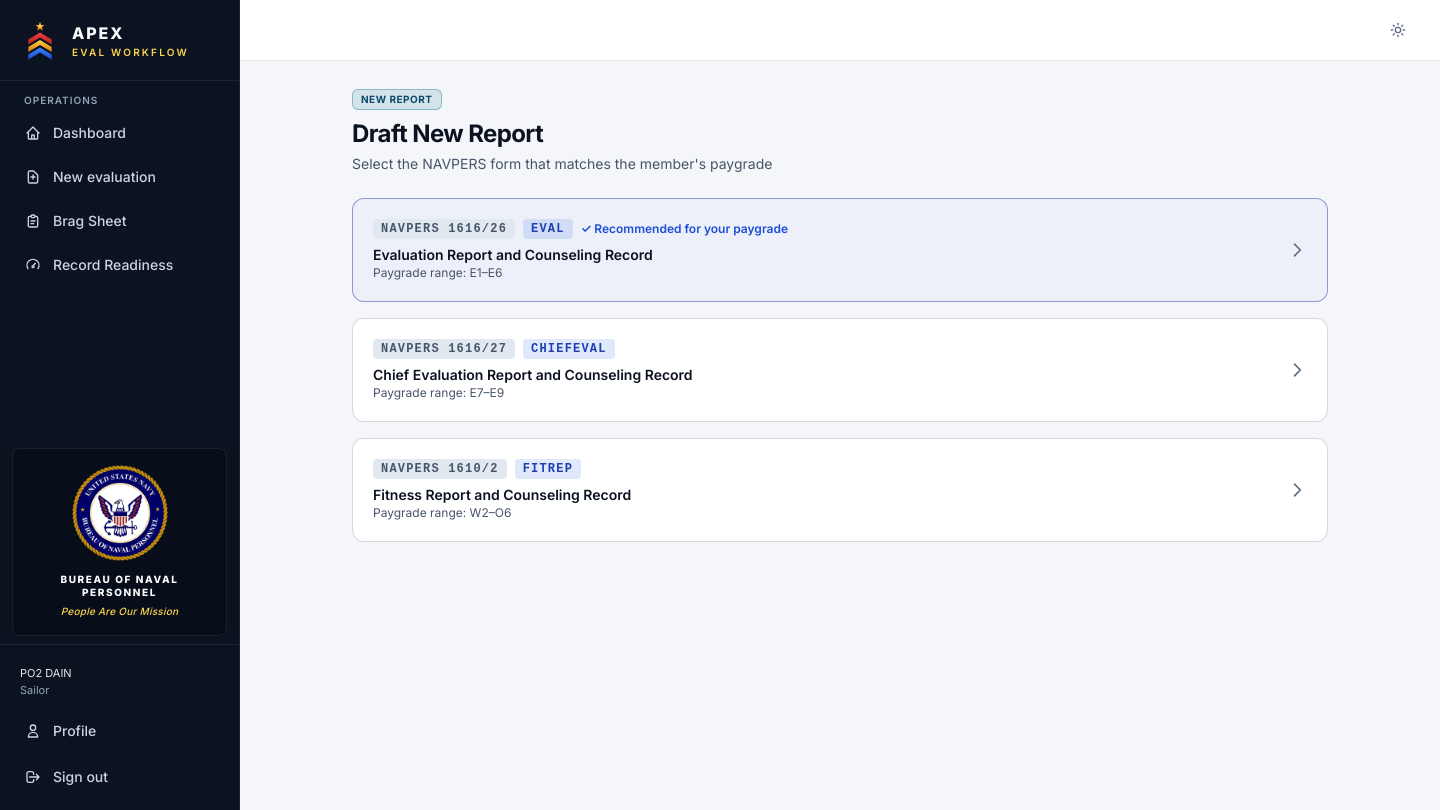
Test: Evaluation Forms & Live Navy Rules Integration Tests › should render NewEvaluationPage with prefilled user profile values
The image size is (1440, 810).
Expected: the heading "Draft New Report" is shown, [352, 119, 543, 148]
Note: Click the recommended or EVAL form picker option
Click the button "Evaluation Report and Counseling Record" at (444, 229), box [352, 198, 1328, 302]
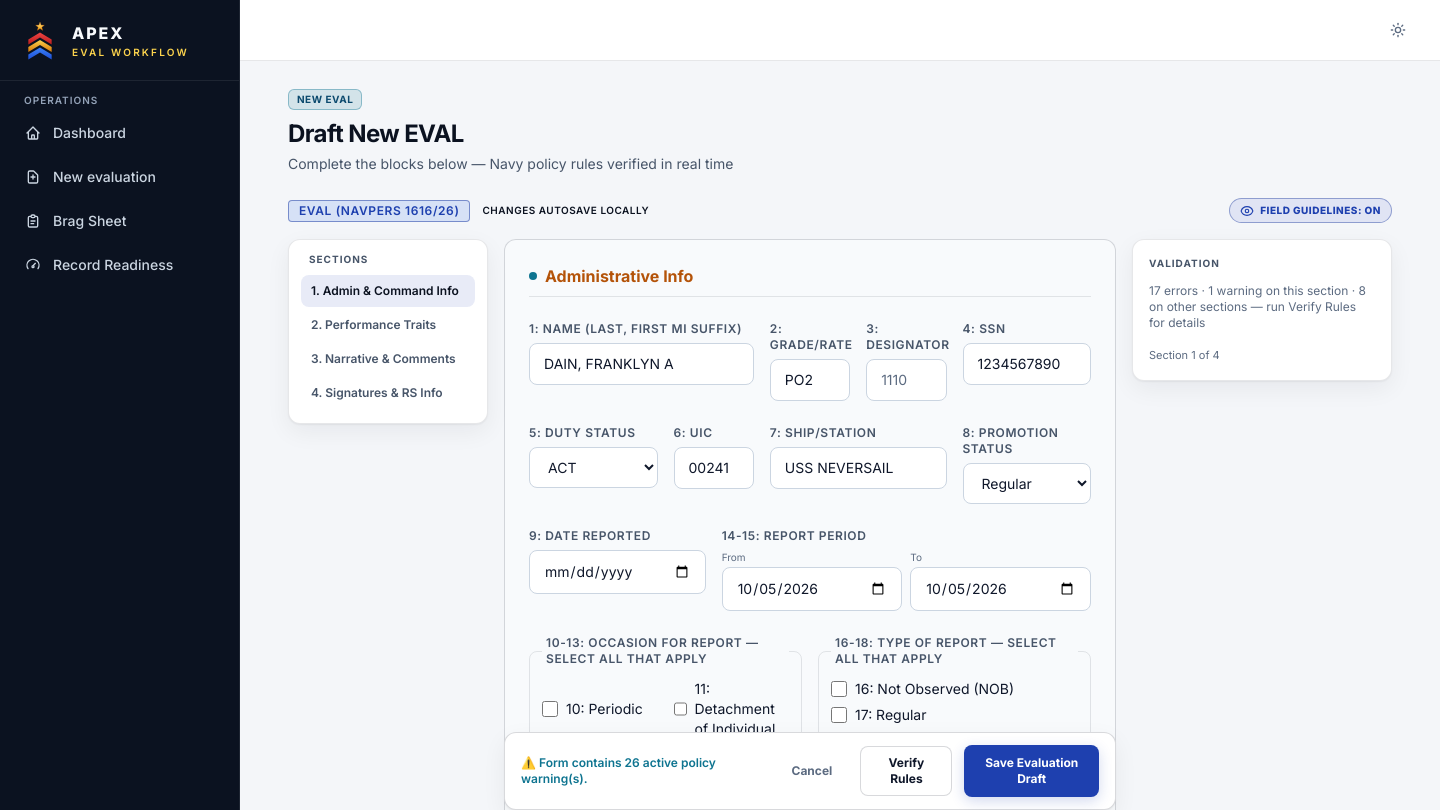
Expected: the text "APEX" is shown, [72, 22, 124, 42]
Expected: the heading "Draft New EVAL" is shown, [288, 119, 464, 148]
